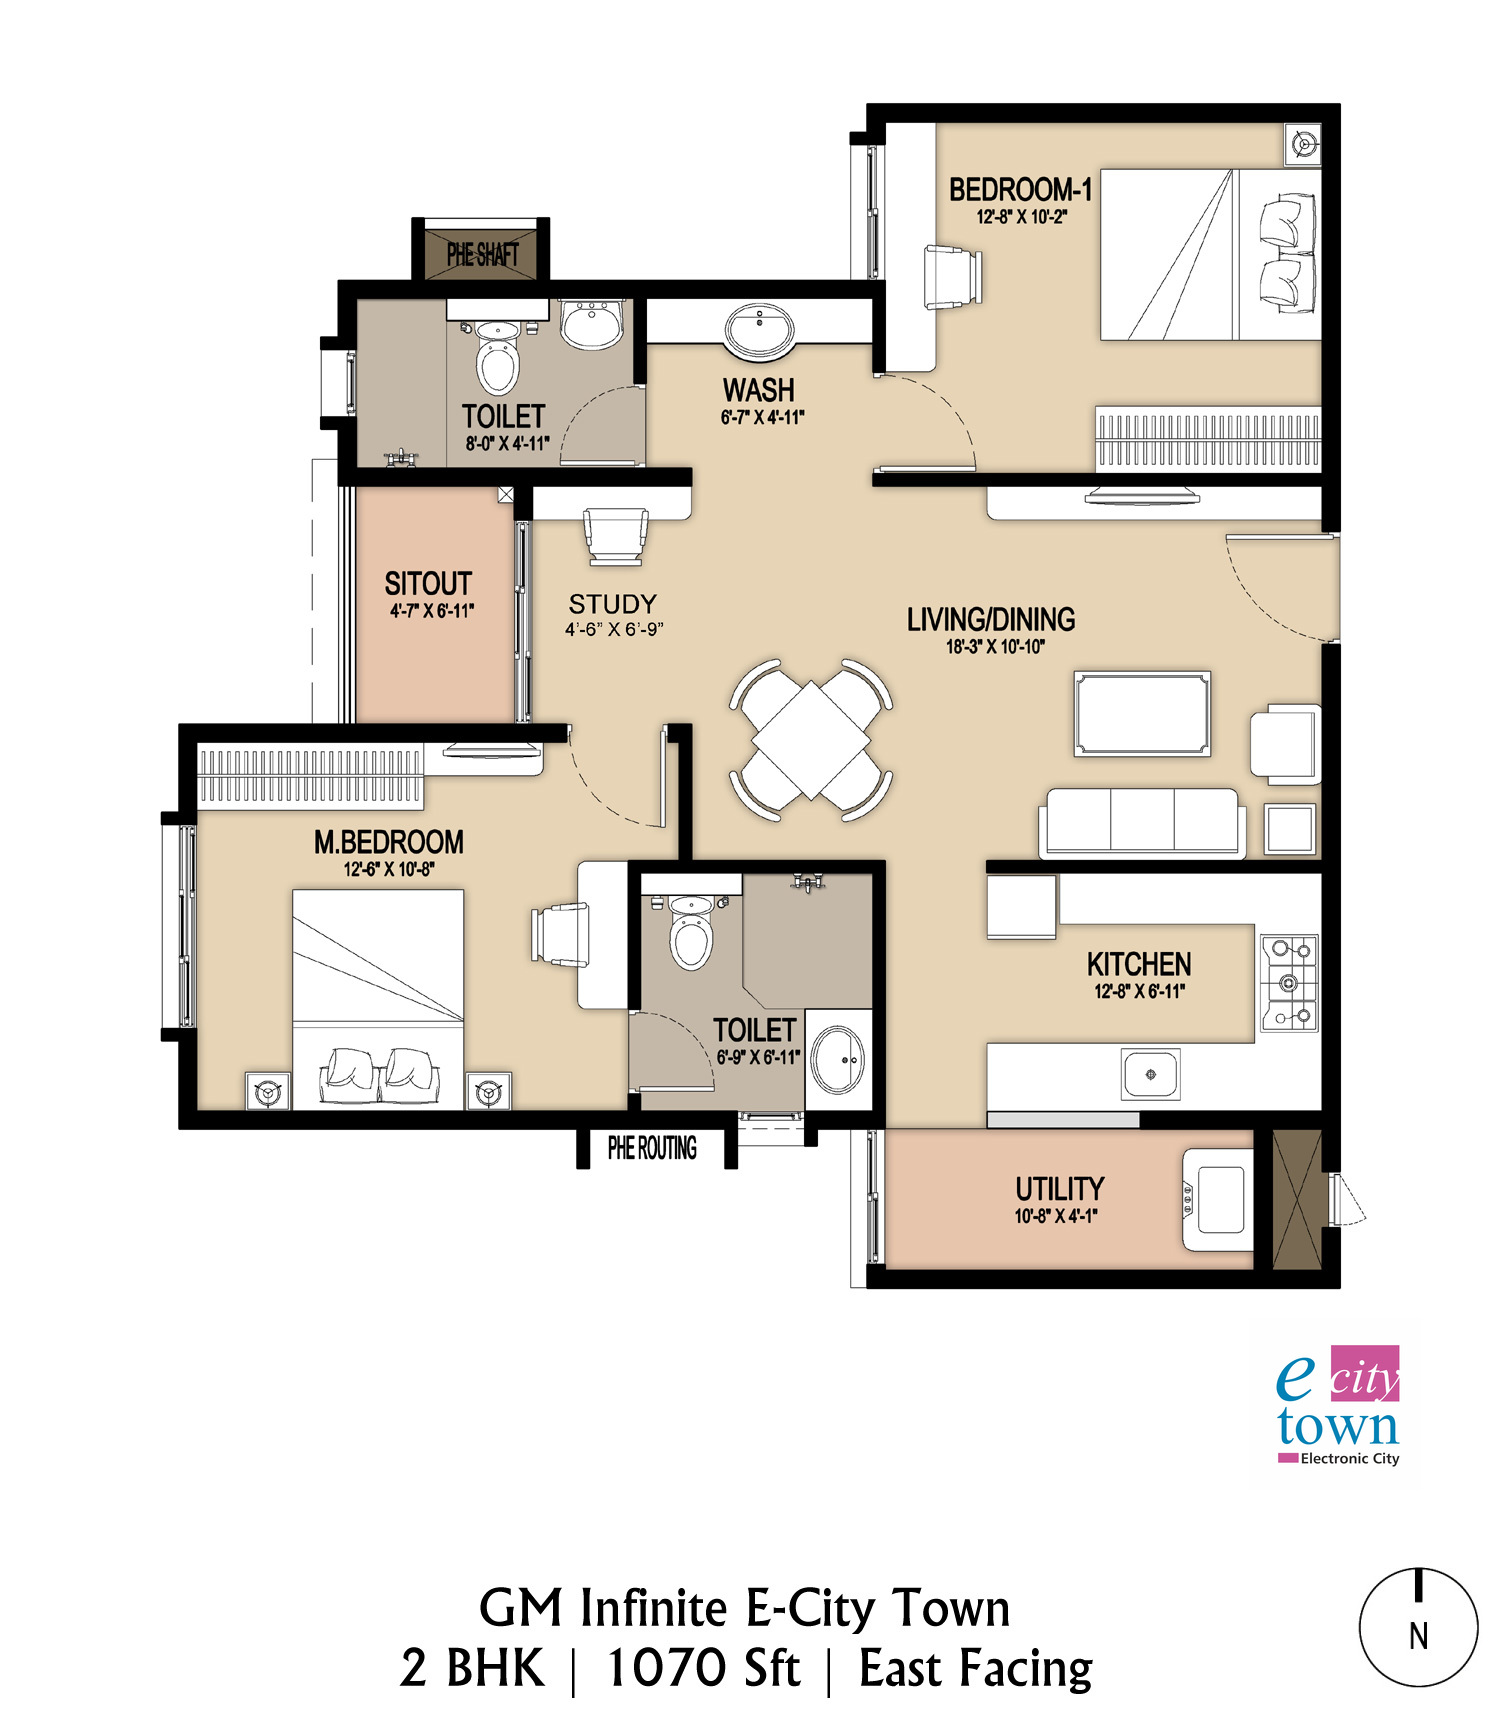window: (158, 821, 200, 1029), (844, 141, 889, 283), (511, 519, 535, 727), (861, 1124, 887, 1267), (318, 346, 358, 417), (735, 1110, 807, 1148)
